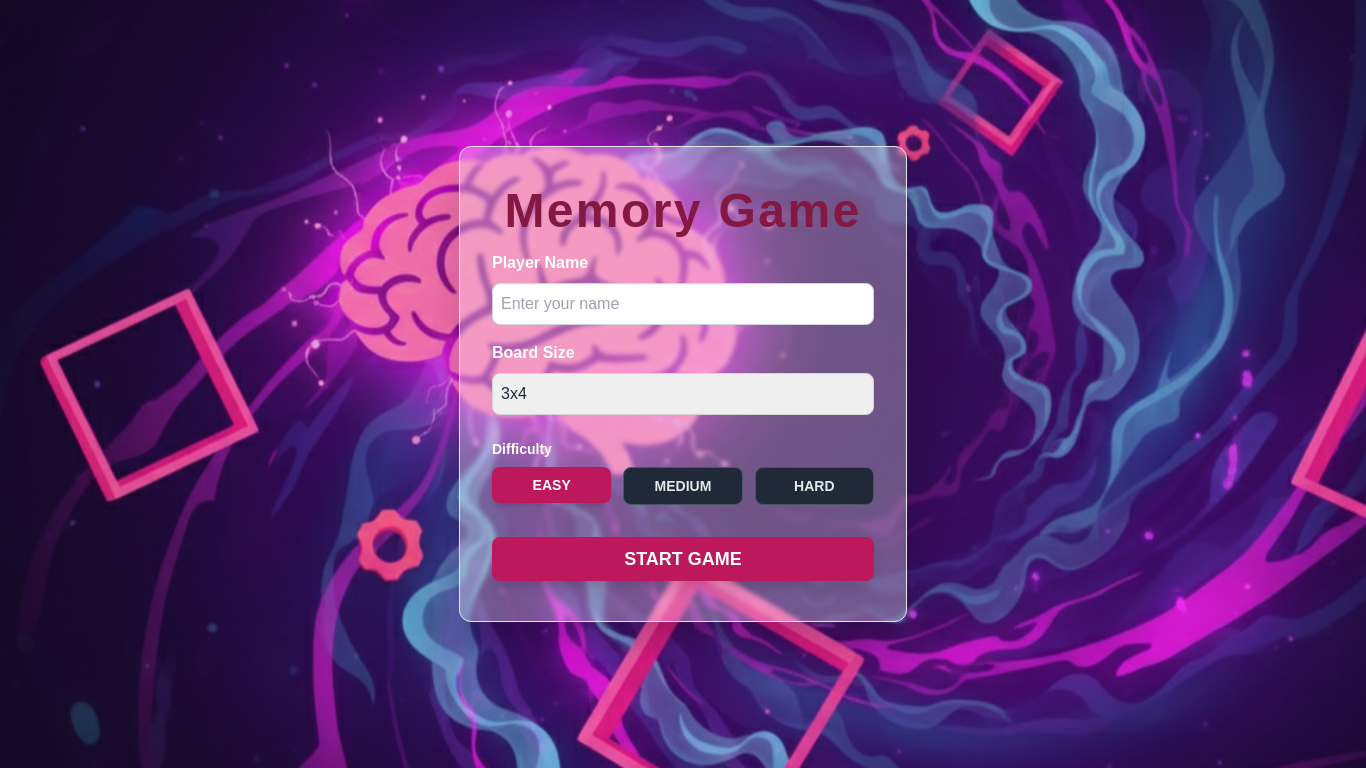
StartPage Component › shows error when starting without name (validation check)
Click the button with test id "start-button".
click(683, 559)  # box [492,537,874,581]
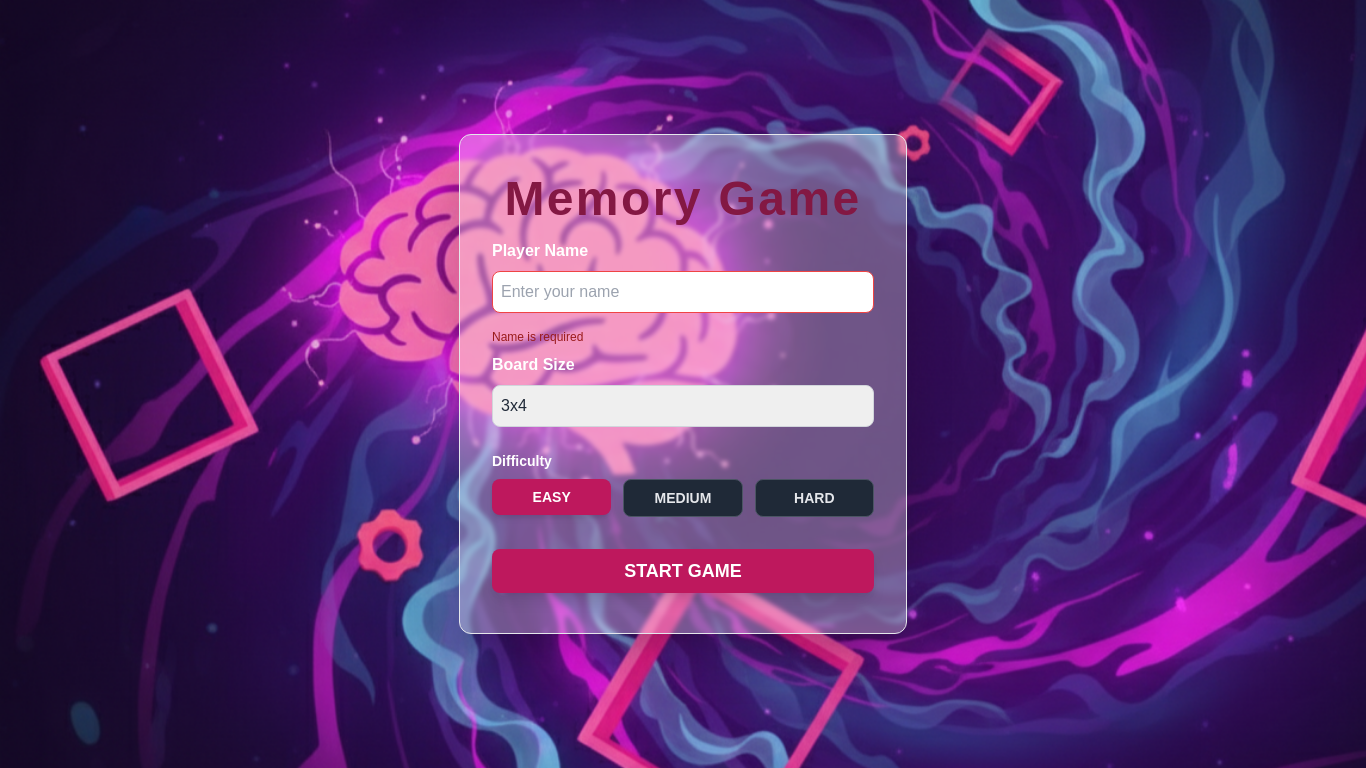
Result: the message reads "Name is required" at [492,330,583,344]
